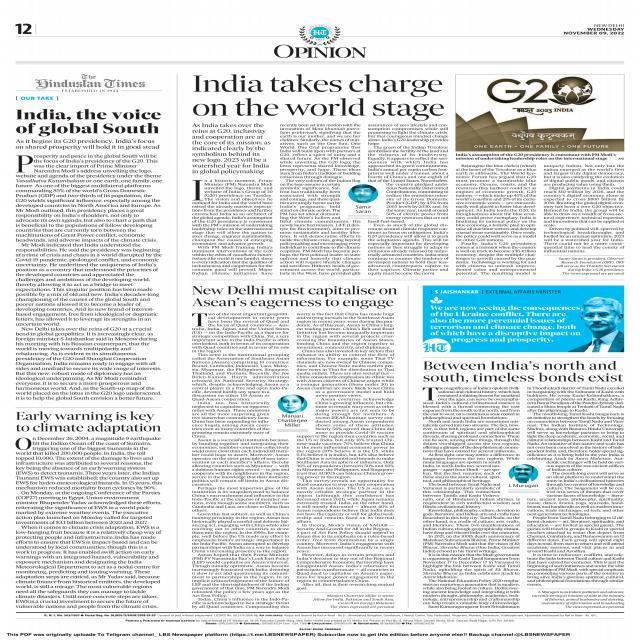Article: (186, 70, 630, 278), (185, 282, 403, 612), (418, 356, 630, 610), (10, 103, 169, 404), (9, 407, 169, 612)
Body: (14, 154, 164, 400), (12, 436, 164, 610), (192, 439, 290, 609), (296, 434, 396, 592), (422, 498, 521, 610), (454, 163, 539, 277), (526, 498, 626, 588), (190, 178, 274, 276), (190, 312, 290, 390), (296, 312, 396, 390), (526, 384, 624, 460), (422, 386, 522, 460), (543, 164, 625, 254), (367, 122, 449, 182), (279, 124, 362, 182), (278, 220, 362, 276), (366, 220, 449, 275), (192, 390, 274, 438), (314, 390, 396, 434), (422, 460, 502, 498), (546, 460, 625, 498), (385, 183, 450, 220), (277, 183, 341, 220)
Date: (562, 28, 626, 36)
Heading: (192, 72, 444, 120), (191, 284, 398, 310), (15, 106, 163, 138), (421, 360, 624, 382), (15, 410, 163, 435)
Highlights: (428, 304, 582, 344), (191, 122, 273, 175), (14, 138, 162, 150)
Image: (456, 74, 624, 152), (584, 298, 624, 352), (348, 184, 378, 202), (279, 394, 305, 414), (509, 463, 534, 482)
Name: (32, 72, 148, 92), (270, 44, 368, 58)
